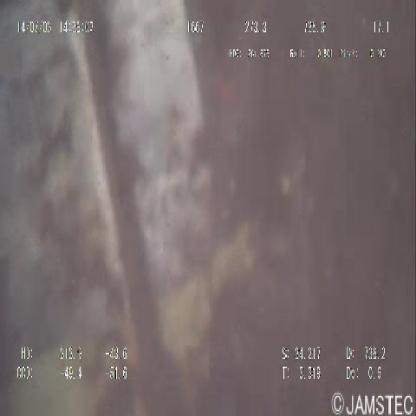Rác: (7, 1, 263, 404)
